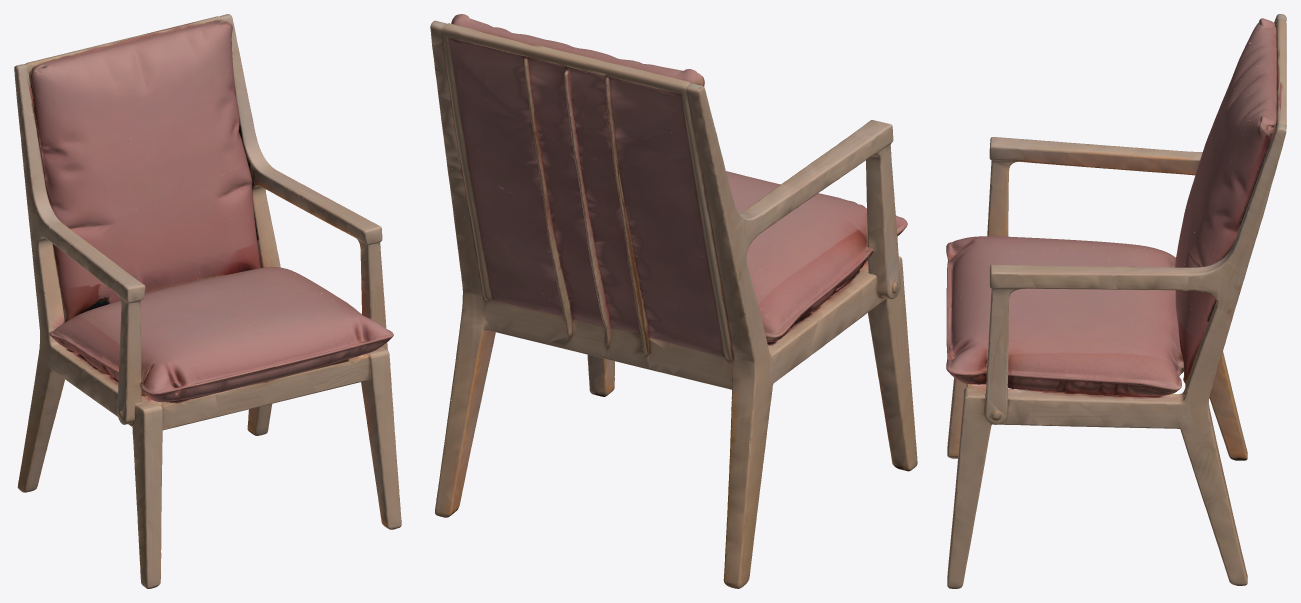
File: comfy5.glb
3 views of the same model, side by side, from view 1: azimuth 30°, elevation 25°; view 2: azimuth 150°, elevation 25°; view 3: azimuth 270°, elevation 25° (orthographic). The views are drawn at different scales.
Parts seen in each view (by area): view 1: tripo_node_edd49233-48fd-488d-8707-53e92bf23b87; view 2: tripo_node_edd49233-48fd-488d-8707-53e92bf23b87; view 3: tripo_node_edd49233-48fd-488d-8707-53e92bf23b87.
Boxes of the visible parts, left/top/right/bottom form: tripo_node_edd49233-48fd-488d-8707-53e92bf23b87: left=14, top=14, right=401, bottom=588; tripo_node_edd49233-48fd-488d-8707-53e92bf23b87: left=430, top=14, right=917, bottom=588; tripo_node_edd49233-48fd-488d-8707-53e92bf23b87: left=946, top=14, right=1286, bottom=588.
Bounding box in the file's own units: 0.6704 × 1 × 0.6783.
1 material, 1 textured.
